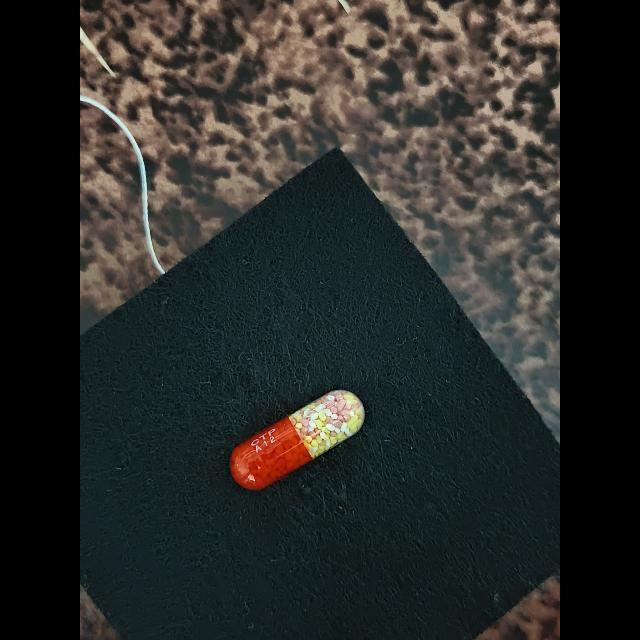Intact Capsule: (230, 390, 365, 490)
